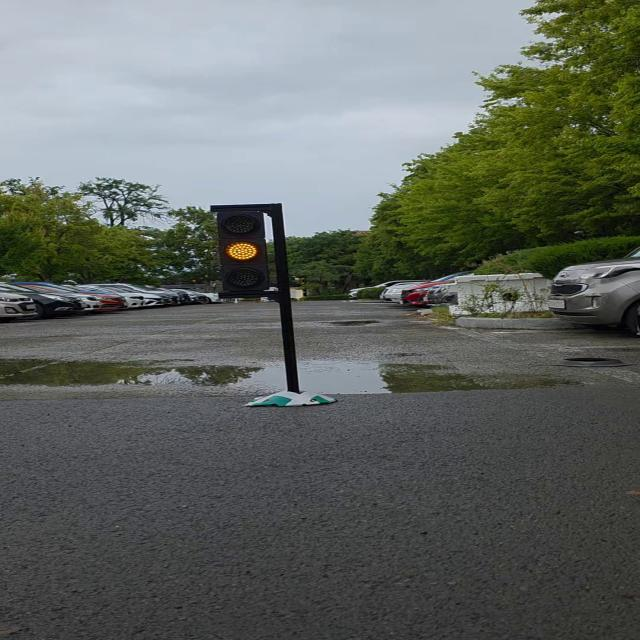yellow: (209, 205, 290, 300)
